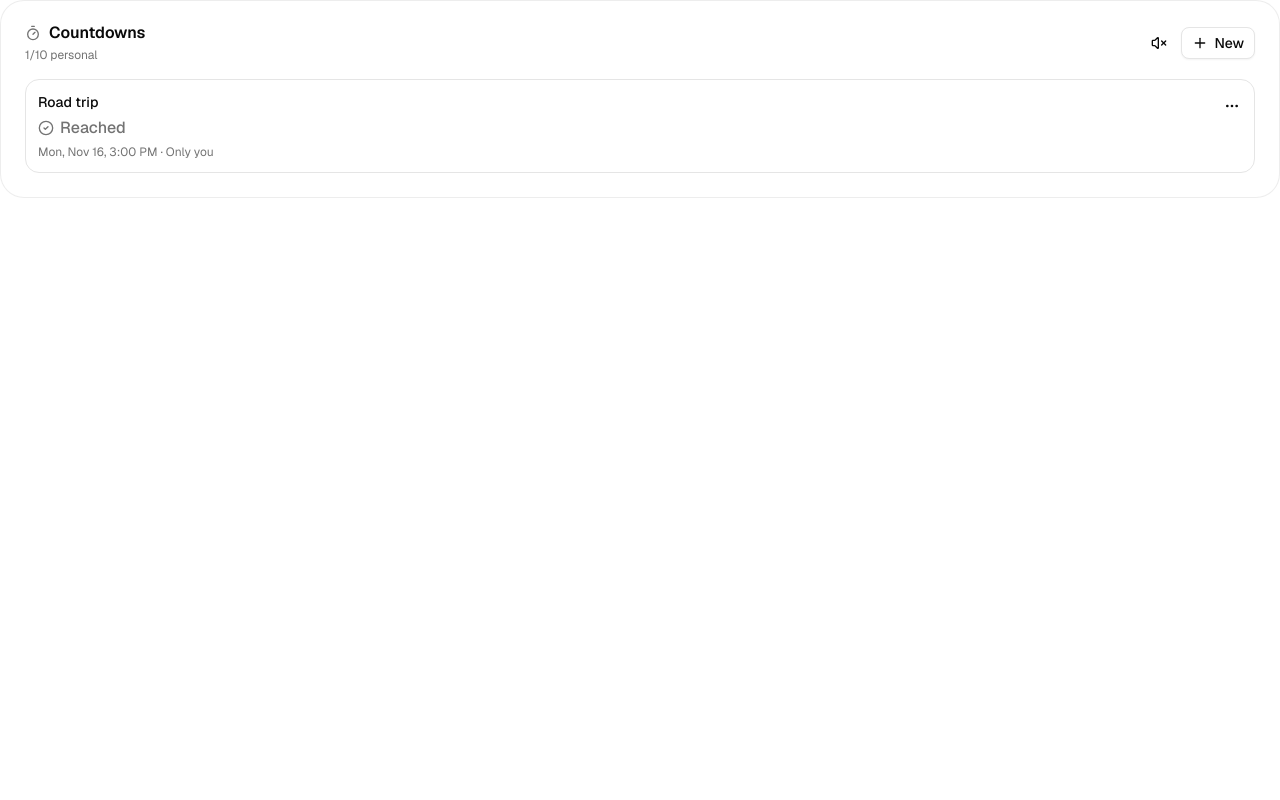
Scenario: CountdownsCard › deletes after the viewer confirms
The image size is (1280, 800).
Later steps or results of the test are not shown.
Click the button named "Actions for Road trip".
click(1232, 106)  # box [1214,88,1250,124]
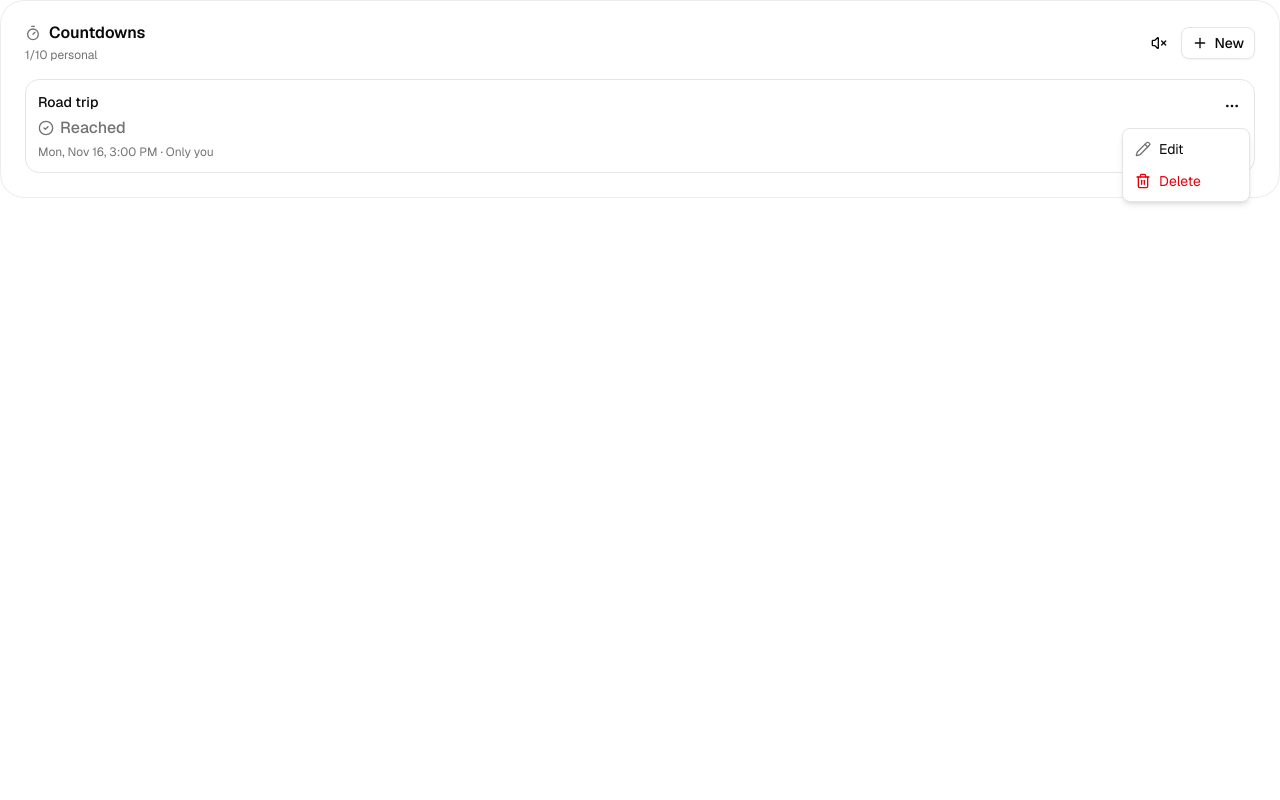
Click the menu item "Delete".
click(1168, 181)  # box [1135,172,1201,190]
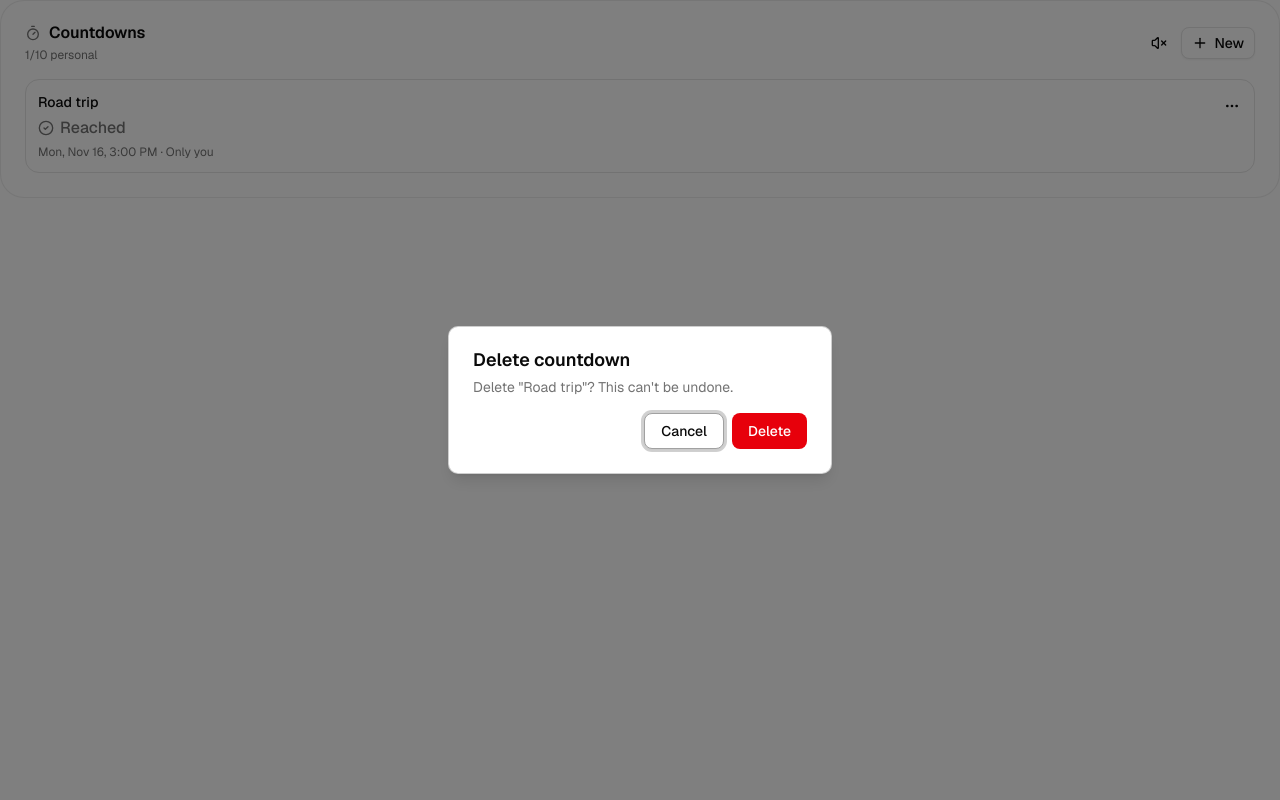
Check: the text "Delete \"Road trip\"? This can't be undone." is shown, box [473,378,733,396]
